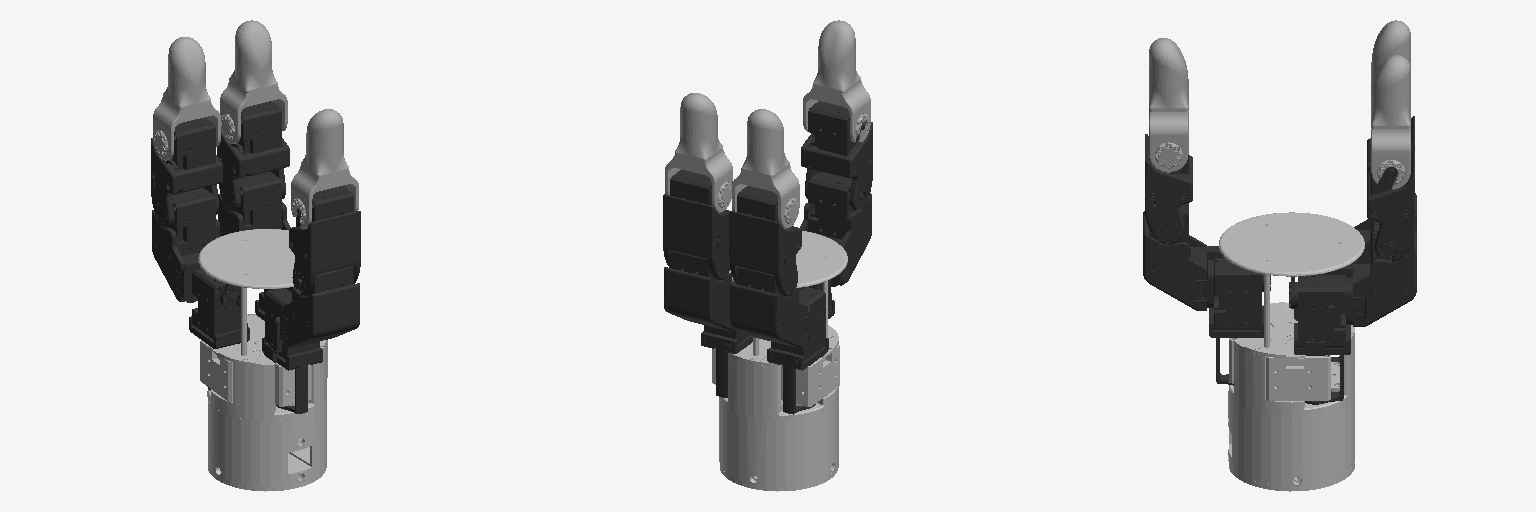
robot.urdf — hand_0926:
<?xml version="1.0" encoding="UTF-8"?>
<!-- This URDF was automatically created by SolidWorks to URDF Exporter! Originally created by Stephen Brawner (brawner@gmail.com) 
     Commit Version: 1.6.0-4-g7f85cfe  Build Version: 1.6.7995.38578
     For more information, please see http://wiki.ros.org/sw_urdf_exporter -->
<robot name="hand_0926">
   <link name="base_link">
      <inertial>
         <origin xyz="6.66104851059779E-05 -0.00146739183607125 0.0762177012368623" rpy="0 0 0" />
         <mass value="0.655736341063627" />
         <inertia ixx="0.000360662836084202" ixy="-1.36824004655417E-06" ixz="-1.32422040669197E-06" iyy="0.000313588606836419" iyz="7.21635100663965E-07" izz="0.000538550929013271" />
      </inertial>
      <visual>
         <origin xyz="0 0 0" rpy="0 0 0" />
         <geometry>
            <mesh filename="package://torque_controller/urdf/meshes/base_link.STL" />
         </geometry>
         <material name="">
            <color rgba="0.780392156862745 0.780392156862745 0.780392156862745 1" />
         </material>
      </visual>
      <collision>
         <origin xyz="0 0 0" rpy="0 0 0" />
         <geometry>
            <mesh filename="package://torque_controller/urdf/meshes/base_link.STL" />
         </geometry>
      </collision>
   </link>
   <link name="FL31">
      <inertial>
         <origin xyz="-8.03778347993056E-05 0.00404564483954523 -0.0650036190426795" rpy="0 0 0" />
         <mass value="0.0868189421596448" />
         <inertia ixx="2.36691726427971E-05" ixy="-1.23676501687214E-08" ixz="-4.90817777022936E-09" iyy="2.05134886465965E-05" iyz="-4.79858201450662E-08" izz="1.41057488688804E-05" />
      </inertial>
      <visual>
         <origin xyz="0 0 0" rpy="0 0 0" />
         <geometry>
            <mesh filename="package://torque_controller/urdf/meshes/FL31.STL" />
         </geometry>
         <material name="">
            <color rgba="0.250980392156863 0.250980392156863 0.250980392156863 1" />
         </material>
      </visual>
      <collision>
         <origin xyz="0 0 0" rpy="0 0 0" />
         <geometry>
            <mesh filename="package://torque_controller/urdf/meshes/FL31.STL" />
         </geometry>
      </collision>
   </link>
   <joint name="F31" type="revolute">
      <origin xyz="0 -0.0335 0.068" rpy="3.1416 0 0" />
      <parent link="base_link" />
      <child link="FL31" />
      <axis xyz="0 0 1" />
      <limit lower="-3.14" upper="3.14" effort="40" velocity="10" />
   </joint>
   <link name="FL32">
      <inertial>
         <origin xyz="0.000563304909810158 0.0299883292052074 -0.0655569469922324" rpy="0 0 0" />
         <mass value="0.102701263719407" />
         <inertia ixx="2.68833438278235E-05" ixy="-1.39405707718603E-07" ixz="6.39316608347209E-08" iyy="2.02977081699989E-05" iyz="1.9093010841103E-06" izz="2.97650268592665E-05" />
      </inertial>
      <visual>
         <origin xyz="0 0 0" rpy="0 0 0" />
         <geometry>
            <mesh filename="package://torque_controller/urdf/meshes/FL32.STL" />
         </geometry>
         <material name="">
            <color rgba="0.250980392156863 0.250980392156863 0.250980392156863 1" />
         </material>
      </visual>
      <collision>
         <origin xyz="0 0 0" rpy="0 0 0" />
         <geometry>
            <mesh filename="package://torque_controller/urdf/meshes/FL32.STL" />
         </geometry>
      </collision>
   </link>
   <joint name="F32" type="revolute">
      <origin xyz="0 -0.0144999999999999 -0.07825" rpy="-1.5707963267949 0 3.14159265358979" />
      <parent link="FL31" />
      <child link="FL32" />
      <axis xyz="0 0 1" />
      <limit lower="-3.14" upper="3.14" effort="40" velocity="10" />
   </joint>
   <link name="FL33">
      <inertial>
         <origin xyz="0.000819888136350824 0.0424082341753711 -0.0183629597645804" rpy="0 0 0" />
         <mass value="0.106089920358158" />
         <inertia ixx="3.27169850742848E-05" ixy="-4.30558776102677E-07" ixz="7.71033289124017E-10" iyy="2.19747313468722E-05" iyz="-3.57573454333983E-07" izz="2.65058210046359E-05" />
      </inertial>
      <visual>
         <origin xyz="0 0 0" rpy="0 0 0" />
         <geometry>
            <mesh filename="package://torque_controller/urdf/meshes/FL33.STL" />
         </geometry>
         <material name="">
            <color rgba="0.250980392156863 0.250980392156863 0.250980392156863 1" />
         </material>
      </visual>
      <collision>
         <origin xyz="0 0 0" rpy="0 0 0" />
         <geometry>
            <mesh filename="package://torque_controller/urdf/meshes/FL33.STL" />
         </geometry>
      </collision>
   </link>
   <joint name="F33" type="revolute">
      <origin xyz="0.019 0.0472528145538523 -0.068249999999995" rpy="0 1.5707963267949 0" />
      <parent link="FL32" />
      <child link="FL33" />
      <axis xyz="0 0 1" />
      <limit lower="-3.14" upper="3.14" effort="40" velocity="10" />
   </joint>
   <link name="FL34">
      <inertial>
         <origin xyz="0.000428374477744853 0.0392529713971393 -0.0193483262303518" rpy="0 0 0" />
         <mass value="0.0205316674082003" />
         <inertia ixx="5.02898129716074E-06" ixy="-1.26329247258682E-07" ixz="-1.05641709954605E-08" iyy="3.14897196065651E-06" iyz="-1.28291889757303E-07" izz="4.01492369920501E-06" />
      </inertial>
      <visual>
         <origin xyz="0 0 0" rpy="0 0 0" />
         <geometry>
            <mesh filename="package://torque_controller/urdf/meshes/FL34.STL" />
         </geometry>
         <material name="">
            <color rgba="0.698039215686274 0.698039215686274 0.698039215686274 1" />
         </material>
      </visual>
      <collision>
         <origin xyz="0 0 0" rpy="0 0 0" />
         <geometry>
            <mesh filename="package://torque_controller/urdf/meshes/FL34.STL" />
         </geometry>
      </collision>
   </link>
   <joint name="F34" type="revolute">
      <origin xyz="0 0.0591249999999997 0" rpy="0 0 0" />
      <parent link="FL33" />
      <child link="FL34" />
      <axis xyz="0 0 1" />
      <limit lower="-3.14" upper="3.14" effort="40" velocity="10" />
   </joint>
   <link name="FL21">
      <inertial>
         <origin xyz="-8.03778346082917E-05 0.00404564484421988 -0.065003619021223" rpy="0 0 0" />
         <mass value="0.0868189421992847" />
         <inertia ixx="2.36691726423632E-05" ixy="-1.23676505078363E-08" ixz="-4.90817769421218E-09" iyy="2.05134886424122E-05" iyz="-4.79858213004414E-08" izz="1.41057488672063E-05" />
      </inertial>
      <visual>
         <origin xyz="0 0 0" rpy="0 0 0" />
         <geometry>
            <mesh filename="package://torque_controller/urdf/meshes/FL21.STL" />
         </geometry>
         <material name="">
            <color rgba="0.250980392156863 0.250980392156863 0.250980392156863 1" />
         </material>
      </visual>
      <collision>
         <origin xyz="0 0 0" rpy="0 0 0" />
         <geometry>
            <mesh filename="package://torque_controller/urdf/meshes/FL21.STL" />
         </geometry>
      </collision>
   </link>
   <joint name="F21" type="revolute">
      <origin xyz="0.029012 0.01675 0.068" rpy="3.1416 0 -3.1416" />
      <parent link="base_link" />
      <child link="FL21" />
      <axis xyz="0 0 1" />
      <limit lower="-3.14" upper="3.14" effort="40" velocity="10" />
   </joint>
   <link name="FL22">
      <inertial>
         <origin xyz="0.000563306231886385 0.0299883337175537 -0.0655569477729367" rpy="0 0 0" />
         <mass value="0.102701244218747" />
         <inertia ixx="2.68833395015692E-05" ixy="-1.39403134774111E-07" ixz="6.39303974847197E-08" iyy="2.02977028321604E-05" iyz="1.90929889220112E-06" izz="2.97650199985316E-05" />
      </inertial>
      <visual>
         <origin xyz="0 0 0" rpy="0 0 0" />
         <geometry>
            <mesh filename="package://torque_controller/urdf/meshes/FL22.STL" />
         </geometry>
         <material name="">
            <color rgba="0.250980392156863 0.250980392156863 0.250980392156863 1" />
         </material>
      </visual>
      <collision>
         <origin xyz="0 0 0" rpy="0 0 0" />
         <geometry>
            <mesh filename="package://torque_controller/urdf/meshes/FL22.STL" />
         </geometry>
      </collision>
   </link>
   <joint name="F22" type="revolute">
      <origin xyz="0 -0.0145000000000001 -0.0782499999999998" rpy="-1.5707963267949 0 -3.14159265358979" />
      <parent link="FL21" />
      <child link="FL22" />
      <axis xyz="0 0 1" />
      <limit lower="-3.14" upper="3.14" effort="40" velocity="10" />
   </joint>
   <link name="FL23">
      <inertial>
         <origin xyz="0.000819885984481405 0.0424082290895106 -0.0183629630872281" rpy="0 0 0" />
         <mass value="0.106089936756497" />
         <inertia ixx="3.27166582676907E-05" ixy="-4.30474288687722E-07" ixz="7.67485060530412E-10" iyy="2.19747160208104E-05" iyz="-3.57576241585855E-07" izz="2.65054704067411E-05" />
      </inertial>
      <visual>
         <origin xyz="0 0 0" rpy="0 0 0" />
         <geometry>
            <mesh filename="package://torque_controller/urdf/meshes/FL23.STL" />
         </geometry>
         <material name="">
            <color rgba="0.250980392156863 0.250980392156863 0.250980392156863 1" />
         </material>
      </visual>
      <collision>
         <origin xyz="0 0 0" rpy="0 0 0" />
         <geometry>
            <mesh filename="package://torque_controller/urdf/meshes/FL23.STL" />
         </geometry>
      </collision>
   </link>
   <joint name="F23" type="revolute">
      <origin xyz="0.0190000000000001 0.0472528145538521 -0.0682499999999999" rpy="0 1.5707963267949 0" />
      <parent link="FL22" />
      <child link="FL23" />
      <axis xyz="0 0 1" />
      <limit lower="-3.14" upper="3.14" effort="40" velocity="10" />
   </joint>
   <link name="FL24">
      <inertial>
         <origin xyz="0.000428374442371871 0.0392530671984008 -0.019348323333427" rpy="0 0 0" />
         <mass value="0.020531742397098" />
         <inertia ixx="5.0289976371824E-06" ixy="-1.26322373135634E-07" ixz="-1.05602849179601E-08" iyy="3.14897774175065E-06" iyz="-1.28293086350955E-07" izz="4.01493737983713E-06" />
      </inertial>
      <visual>
         <origin xyz="0 0 0" rpy="0 0 0" />
         <geometry>
            <mesh filename="package://torque_controller/urdf/meshes/FL24.STL" />
         </geometry>
         <material name="">
            <color rgba="0.698039215686274 0.698039215686274 0.698039215686274 1" />
         </material>
      </visual>
      <collision>
         <origin xyz="0 0 0" rpy="0 0 0" />
         <geometry>
            <mesh filename="package://torque_controller/urdf/meshes/FL24.STL" />
         </geometry>
      </collision>
   </link>
   <joint name="F24" type="revolute">
      <origin xyz="0 0.0591249999999999 0" rpy="0 0 0" />
      <parent link="FL23" />
      <child link="FL24" />
      <axis xyz="0 0 1" />
      <limit lower="-3.14" upper="3.14" effort="40" velocity="10" />
   </joint>
   <link name="FL11">
      <inertial>
         <origin xyz="-8.03778346082917E-05 0.00404564484421999 -0.0650036190212232" rpy="0 0 0" />
         <mass value="0.0868189421992846" />
         <inertia ixx="2.36691726423632E-05" ixy="-1.23676505078681E-08" ixz="-4.90817769425728E-09" iyy="2.05134886424121E-05" iyz="-4.79858213004417E-08" izz="1.41057488672063E-05" />
      </inertial>
      <visual>
         <origin xyz="0 0 0" rpy="0 0 0" />
         <geometry>
            <mesh filename="package://torque_controller/urdf/meshes/FL11.STL" />
         </geometry>
         <material name="">
            <color rgba="0.250980392156863 0.250980392156863 0.250980392156863 1" />
         </material>
      </visual>
      <collision>
         <origin xyz="0 0 0" rpy="0 0 0" />
         <geometry>
            <mesh filename="package://torque_controller/urdf/meshes/FL11.STL" />
         </geometry>
      </collision>
   </link>
   <joint name="F11" type="revolute">
      <origin xyz="-0.0290118510267787 0.0167499999999996 0.068" rpy="-3.14159265358979 0 -3.14159265358979" />
      <parent link="base_link" />
      <child link="FL11" />
      <axis xyz="0 0 1" />
      <limit lower="-3.14" upper="3.14" effort="40" velocity="10" />
   </joint>
   <link name="FL12">
      <inertial>
         <origin xyz="0.00056330622791767 0.0299883337283617 -0.0655569477767348" rpy="0 0 0" />
         <mass value="0.102701244185666" />
         <inertia ixx="2.68833394937803E-05" ixy="-1.39403140142511E-07" ixz="6.39304011943712E-08" iyy="2.02977028241437E-05" iyz="1.90929888853156E-06" izz="2.97650199878025E-05" />
      </inertial>
      <visual>
         <origin xyz="0 0 0" rpy="0 0 0" />
         <geometry>
            <mesh filename="package://torque_controller/urdf/meshes/FL12.STL" />
         </geometry>
         <material name="">
            <color rgba="0.250980392156863 0.250980392156863 0.250980392156863 1" />
         </material>
      </visual>
      <collision>
         <origin xyz="0 0 0" rpy="0 0 0" />
         <geometry>
            <mesh filename="package://torque_controller/urdf/meshes/FL12.STL" />
         </geometry>
      </collision>
   </link>
   <joint name="F12" type="revolute">
      <origin xyz="0 -0.0145 -0.0782499999999976" rpy="-1.57079632679489 0 3.14159265358979" />
      <parent link="FL11" />
      <child link="FL12" />
      <axis xyz="0 0 1" />
      <limit lower="-3.14" upper="3.14" effort="40" velocity="10" />
   </joint>
   <link name="FL13">
      <inertial>
         <origin xyz="0.00081988598331767 0.0424082290849416 -0.018362963087229" rpy="0 0 0" />
         <mass value="0.106089936756486" />
         <inertia ixx="3.27169840816174E-05" ixy="-4.3055696436025E-07" ixz="7.67486639775062E-10" iyy="2.1974736999916E-05" iyz="-3.57576235198874E-07" izz="2.65058171998073E-05" />
      </inertial>
      <visual>
         <origin xyz="0 0 0" rpy="0 0 0" />
         <geometry>
            <mesh filename="package://torque_controller/urdf/meshes/FL13.STL" />
         </geometry>
         <material name="">
            <color rgba="0.250980392156863 0.250980392156863 0.250980392156863 1" />
         </material>
      </visual>
      <collision>
         <origin xyz="0 0 0" rpy="0 0 0" />
         <geometry>
            <mesh filename="package://torque_controller/urdf/meshes/FL13.STL" />
         </geometry>
      </collision>
   </link>
   <joint name="F13" type="revolute">
      <origin xyz="0.0190000000000011 0.0472528145538534 -0.0682499999999997" rpy="0 1.5707963267949 0" />
      <parent link="FL12" />
      <child link="FL13" />
      <axis xyz="0 0 1" />
      <limit lower="-3.14" upper="3.14" effort="40" velocity="10" />
   </joint>
   <link name="FL14">
      <inertial>
         <origin xyz="0.000428374441906409 0.0392530672037423 -0.0193483233305055" rpy="0 0 0" />
         <mass value="0.0205317424023075" />
         <inertia ixx="5.02899763817442E-06" ixy="-1.26322372974566E-07" ixz="-1.05602846945543E-08" iyy="3.14897774240472E-06" iyz="-1.28293086776836E-07" izz="4.01493738003975E-06" />
      </inertial>
      <visual>
         <origin xyz="0 0 0" rpy="0 0 0" />
         <geometry>
            <mesh filename="package://torque_controller/urdf/meshes/FL14.STL" />
         </geometry>
         <material name="">
            <color rgba="0.698039215686274 0.698039215686274 0.698039215686274 1" />
         </material>
      </visual>
      <collision>
         <origin xyz="0 0 0" rpy="0 0 0" />
         <geometry>
            <mesh filename="package://torque_controller/urdf/meshes/FL14.STL" />
         </geometry>
      </collision>
   </link>
   <joint name="F14" type="revolute">
      <origin xyz="0 0.0591250000000006 0" rpy="0 0 0" />
      <parent link="FL13" />
      <child link="FL14" />
      <axis xyz="0 0 1" />
      <limit lower="-3.14" upper="3.14" effort="40" velocity="10" />
   </joint>

   <link name="FL1EEF">
      <inertial>
         <origin xyz="0 0 0" rpy="0 0 0" />
         <mass value="0.01" />
         <inertia ixx="1.0E-07" ixy="1.0E-07" ixz="1.0E-07"
                  iyx="1.0E-07" iyy="1.0E-07" iyz="1.0E-07"
                  izx="1.0E-07" izy="1.0E-07" izz="1.0E-07"/>
      </inertial>
   </link>
   <joint name="F1EEF" type="fixed">
      <origin xyz="-0.007 0.065 -0.02" rpy="0 0 0.785398" />
      <parent link="FL14" />
      <child link="FL1EEF" />
   </joint>

   <link name="FL2EEF">
      <inertial>
         <origin xyz="0 0 0" rpy="0 0 0" />
         <mass value="0.01" />
         <inertia ixx="1.0E-07" ixy="1.0E-07" ixz="1.0E-07"
                  iyx="1.0E-07" iyy="1.0E-07" iyz="1.0E-07"
                  izx="1.0E-07" izy="1.0E-07" izz="1.0E-07"/>
      </inertial>
   </link>
   <joint name="F2EEF" type="fixed">
      <origin xyz="-0.007 0.065 -0.02" rpy="0 0 0.65" />
      <parent link="FL24" />
      <child link="FL2EEF" />
   </joint>

   <link name="FL3EEF">
      <inertial>
         <origin xyz="0 0 0" rpy="0 0 0" />
         <mass value="0.01" />
         <inertia ixx="1.0E-07" ixy="1.0E-07" ixz="1.0E-07"
                  iyx="1.0E-07" iyy="1.0E-07" iyz="1.0E-07"
                  izx="1.0E-07" izy="1.0E-07" izz="1.0E-07"/>
      </inertial>
   </link>
   <joint name="F3EEF" type="fixed">
      <!-- 0.785398  = 45 degree -->
      <origin xyz="-0.007 0.065 -0.02" rpy="0 0 0.785398" />
      <parent link="FL34" />
      <child link="FL3EEF" />
   </joint>
</robot>

--- Render facts (derived) ---
Views: 3 orthographic renders of the robot side by side, from view 1: azimuth 30°, elevation 25°; view 2: azimuth 150°, elevation 25°; view 3: azimuth 270°, elevation 25°.
Robot: hand_0926 — 16 links, 15 joints (12 revolute, 3 fixed); root link base_link; default pose: every joint at zero.
Visible links, largest first — view 1: base_link, FL33, FL12, FL13, FL32, FL23, FL14, FL24, FL34, FL22, FL11, FL31; view 2: base_link, FL13, FL23, FL33, FL12, FL34, FL32, FL14, FL24, FL22, FL11, FL21; view 3: base_link, FL22, FL34, FL24, FL21, FL32, FL31, FL23, FL33, FL14.
Boxes of the visible links, left/top/right/bottom form: base_link: left=198, top=229, right=327, bottom=491; FL33: left=289, top=186, right=360, bottom=296; FL12: left=152, top=188, right=240, bottom=309; FL13: left=151, top=117, right=222, bottom=227; FL32: left=271, top=266, right=359, bottom=347; FL23: left=217, top=101, right=289, bottom=211; FL14: left=153, top=37, right=220, bottom=160; FL24: left=220, top=20, right=287, bottom=143; FL34: left=291, top=109, right=358, bottom=228; FL22: left=218, top=171, right=290, bottom=235; FL11: left=189, top=269, right=249, bottom=390; FL31: left=262, top=288, right=322, bottom=413; base_link: left=712, top=231, right=847, bottom=491; FL13: left=729, top=186, right=801, bottom=296; FL23: left=663, top=169, right=729, bottom=279; FL33: left=801, top=101, right=872, bottom=210; FL12: left=730, top=266, right=819, bottom=348; FL34: left=803, top=20, right=870, bottom=142; FL32: left=800, top=171, right=871, bottom=286; FL14: left=732, top=109, right=799, bottom=228; FL24: left=665, top=93, right=732, bottom=212; FL22: left=664, top=250, right=737, bottom=331; FL11: left=767, top=287, right=828, bottom=414; FL21: left=701, top=282, right=752, bottom=397; base_link: left=1219, top=212, right=1364, bottom=491; FL22: left=1289, top=220, right=1416, bottom=326; FL34: left=1149, top=38, right=1188, bottom=172; FL24: left=1371, top=55, right=1410, bottom=189; FL21: left=1289, top=275, right=1350, bottom=404; FL32: left=1143, top=203, right=1270, bottom=310; FL31: left=1209, top=258, right=1270, bottom=385; FL23: left=1367, top=151, right=1414, bottom=261; FL33: left=1145, top=134, right=1192, bottom=244; FL14: left=1371, top=20, right=1410, bottom=95.
Size in the robot's own frame: 0.106 by 0.1943 by 0.333 metres.
Meshes: 13 distinct files referenced, 13 mesh visuals loaded (13 binary STL).
